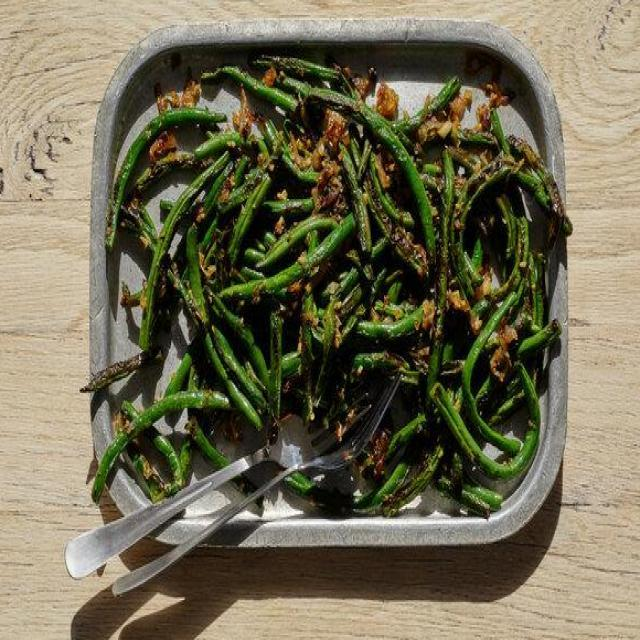Beans: (95, 57, 563, 523)
